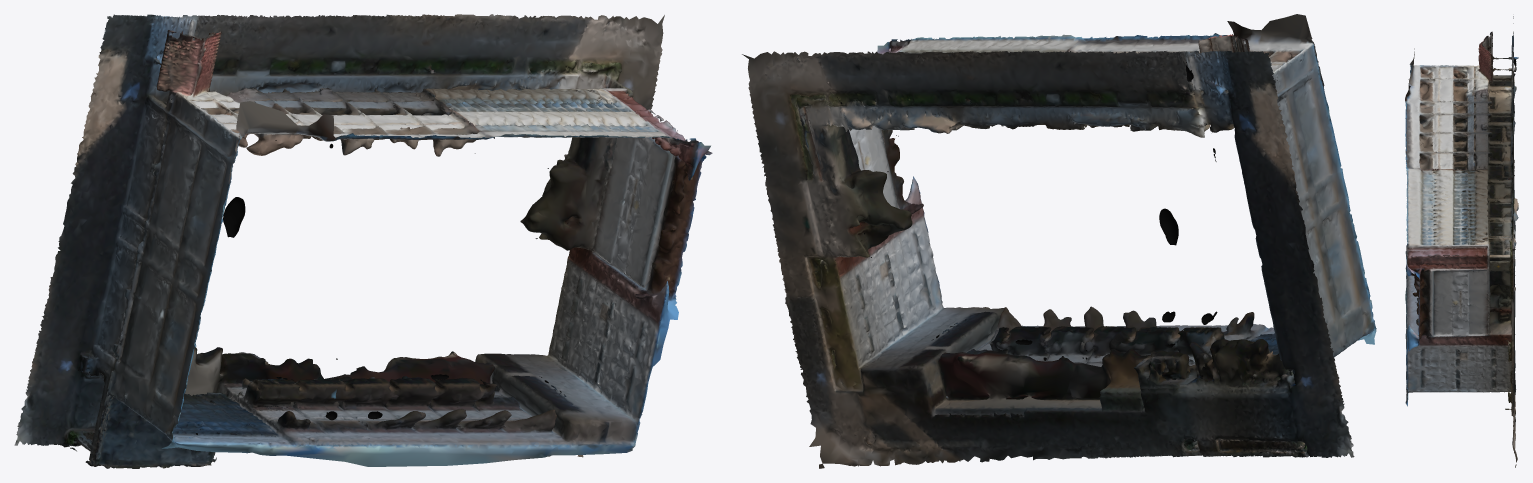
3 renders of one model, left to right at view 1: azimuth 30°, elevation 25°; view 2: azimuth 150°, elevation 25°; view 3: azimuth 270°, elevation 25°, orthographic. The views are drawn at different scales.
Visible parts, largest first — view 1: Mesh; view 2: Mesh; view 3: Mesh.
Boxes of the visible parts, <box> form: Mesh: <box>14,14,712,468</box>; Mesh: <box>742,14,1376,468</box>; Mesh: <box>1405,16,1518,467</box>.
Size of the model in its own units: 56.06 by 45.89 by 14.75.
